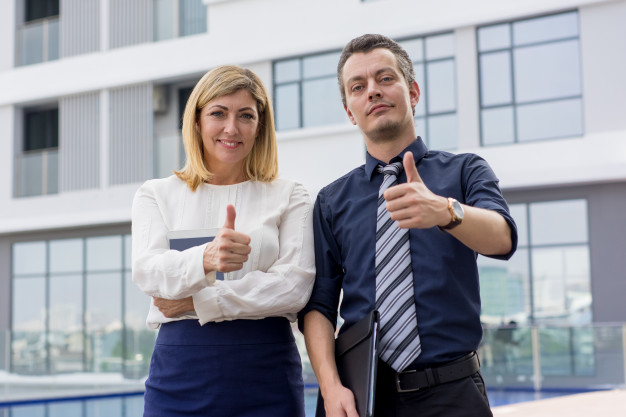thumbsup: (383, 151, 426, 228), (215, 204, 252, 272)
